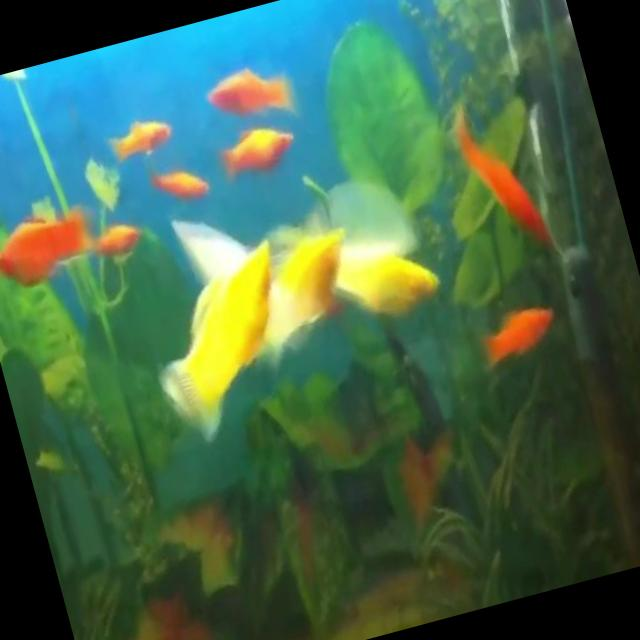PlatyFish: (121, 220, 322, 460), (0, 187, 115, 306), (195, 38, 310, 140), (208, 112, 306, 188)
